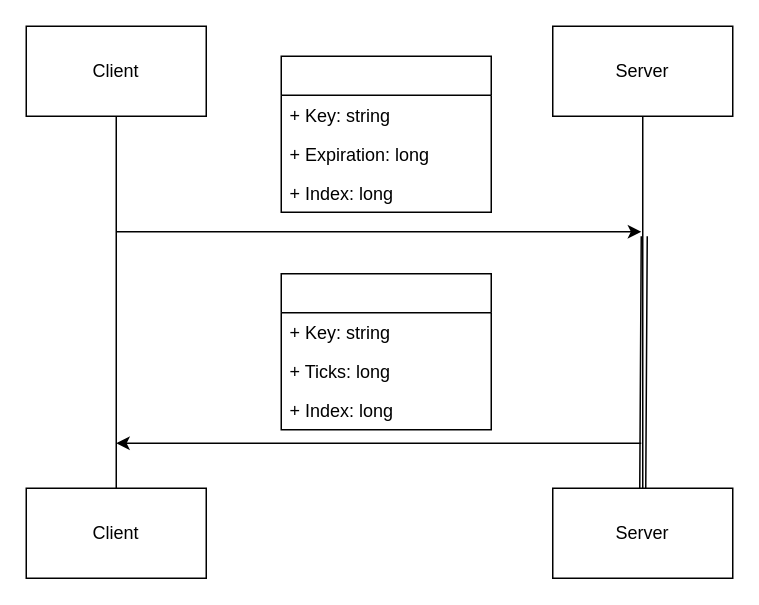
Some shapes in this 759 by 605 pixel diagram are drawn without their labels. Each missing label, with the box of its shape:
LockRequest: (280, 55, 491, 212)
LockResponse: (280, 272, 491, 430)
